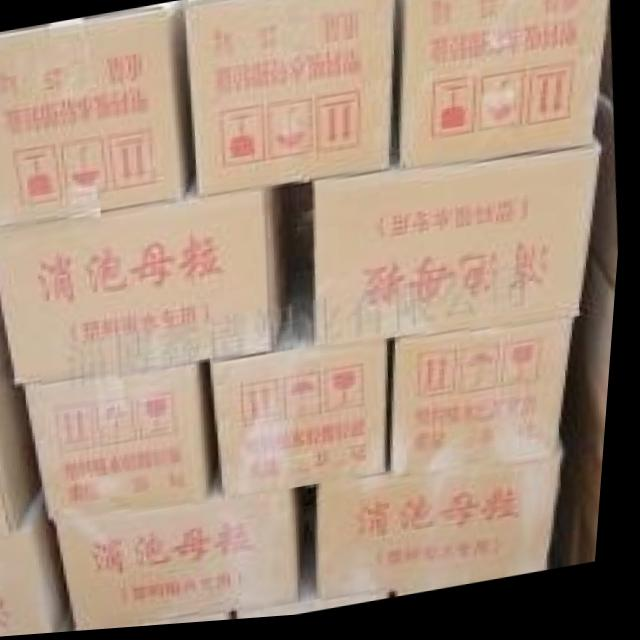box: (315, 137, 604, 350), (0, 180, 297, 387), (0, 2, 198, 226), (57, 467, 317, 633), (184, 0, 393, 199), (216, 274, 394, 502), (324, 447, 570, 603), (394, 0, 608, 174), (29, 363, 226, 520), (390, 324, 580, 482), (0, 485, 79, 638), (0, 350, 49, 535)
